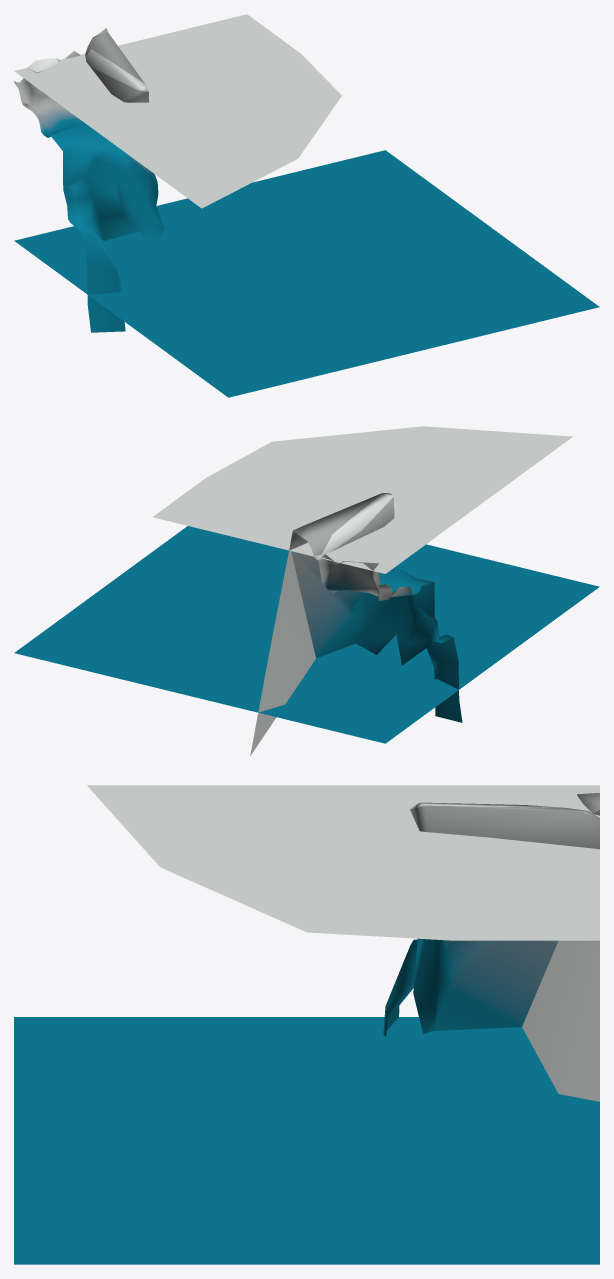
3 renders of one model, top to bottom at view 1: azimuth 30°, elevation 25°; view 2: azimuth 150°, elevation 25°; view 3: azimuth 270°, elevation 25°, orthographic. The views are drawn at different scales.
Parts seen in each view (by area): view 1: G:\FFXIV-MapTools\exports\s1f6\bg\ffxiv\sea_s1\fld\s1f6\bgpl (×8); view 2: G:\FFXIV-MapTools\exports\s1f6\bg\ffxiv\sea_s1\fld\s1f6\bgpl (×9); view 3: G:\FFXIV-MapTools\exports\s1f6\bg\ffxiv\sea_s1\fld\s1f6\bgpl (×8).
Boxes of the visible parts, x1,y1,x2,y2 form: G:\FFXIV-MapTools\exports\s1f6\bg\ffxiv\sea_s1\fld\s1f6\bgpl (×8): [14, 14, 599, 397]; G:\FFXIV-MapTools\exports\s1f6\bg\ffxiv\sea_s1\fld\s1f6\bgpl (×9): [14, 426, 599, 755]; G:\FFXIV-MapTools\exports\s1f6\bg\ffxiv\sea_s1\fld\s1f6\bgpl (×8): [14, 785, 599, 1264].
Size of the model in its own units: 128 by 78.53 by 128.
